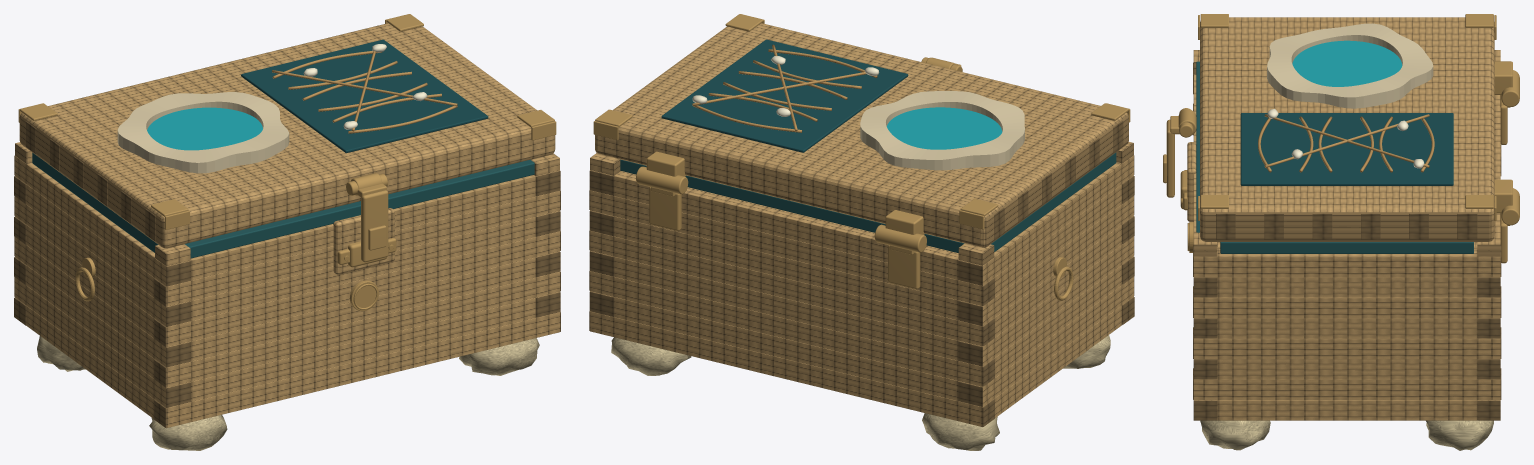
Rendered from marshall-islands.glb.
3 views of the same model, side by side, from view 1: azimuth 30°, elevation 25°; view 2: azimuth 150°, elevation 25°; view 3: azimuth 270°, elevation 25° (orthographic).
Parts seen in each view (by area): view 1: Lid / polished slab, Chart / inset field, Pandanus / front course 0, Pandanus / front course 2, Pandanus / front course 4, Atoll / sand rim, Pandanus / front course 1, Pandanus / front course 3, Pandanus / front course 6, Pandanus / front course 5, Pandanus / front course 7, Mineral seam / long (+18 smaller); view 2: Lid / polished slab, Chart / inset field, Pandanus / rear course 2, Pandanus / rear course 4, Pandanus / rear course 0, Pandanus / rear course 7, Pandanus / rear course 5, Pandanus / rear course 1, Pandanus / rear course 3, Atoll / sand rim, Pandanus / rear course 6, Pandanus / side course 7 (+22 smaller); view 3: Lid / polished slab, Chart / inset field, Pandanus / side course 7.001, Atoll / sand rim, Pandanus / side course 5.001, Pandanus / side course 3.001, Pandanus / side course 1.001, Pandanus / side course 6.001, Pandanus / side course 0.001, Pandanus / side course 2.001, Pandanus / side course 4.001, Atoll / lagoon (+34 smaller).
Boxes of the visible parts, x1,y1,x2,y2 form: Lid / polished slab: [19, 23, 555, 248]; Chart / inset field: [241, 39, 488, 153]; Pandanus / front course 0: [155, 312, 559, 428]; Pandanus / front course 2: [155, 271, 559, 387]; Pandanus / front course 4: [155, 231, 559, 347]; Atoll / sand rim: [117, 92, 289, 173]; Pandanus / front course 1: [190, 298, 535, 401]; Pandanus / front course 3: [190, 257, 535, 361]; Pandanus / front course 6: [155, 191, 559, 306]; Pandanus / front course 5: [190, 217, 535, 320]; Pandanus / front course 7: [190, 175, 535, 280]; Mineral seam / long: [185, 159, 534, 258]; Lid / polished slab: [595, 23, 1128, 247]; Chart / inset field: [661, 39, 908, 152]; Pandanus / rear course 2: [590, 271, 994, 386]; Pandanus / rear course 4: [590, 230, 994, 346]; Pandanus / rear course 0: [590, 311, 993, 426]; Pandanus / rear course 7: [614, 171, 958, 279]; Pandanus / rear course 5: [614, 216, 958, 320]; Pandanus / rear course 1: [614, 297, 958, 400]; Pandanus / rear course 3: [614, 256, 958, 360]; Atoll / sand rim: [860, 91, 1024, 170]; Pandanus / rear course 6: [590, 190, 993, 305]; Pandanus / side course 7: [959, 155, 1133, 285]; Lid / polished slab: [1200, 17, 1494, 241]; Chart / inset field: [1240, 113, 1453, 185]; Pandanus / side course 7.001: [1194, 249, 1500, 277]; Atoll / sand rim: [1267, 23, 1433, 108]; Pandanus / side course 5.001: [1194, 297, 1500, 318]; Pandanus / side course 3.001: [1194, 338, 1500, 359]; Pandanus / side course 1.001: [1194, 379, 1500, 399]; Pandanus / side course 6.001: [1217, 277, 1477, 297]; Pandanus / side course 0.001: [1217, 400, 1477, 420]; Pandanus / side course 2.001: [1217, 359, 1477, 379]; Pandanus / side course 4.001: [1217, 318, 1477, 338]; Atoll / lagoon: [1292, 40, 1402, 86].
Size of the model in its own units: 3.79 by 2.43 by 2.88.
Materials: 10 (3 with a texture image).
